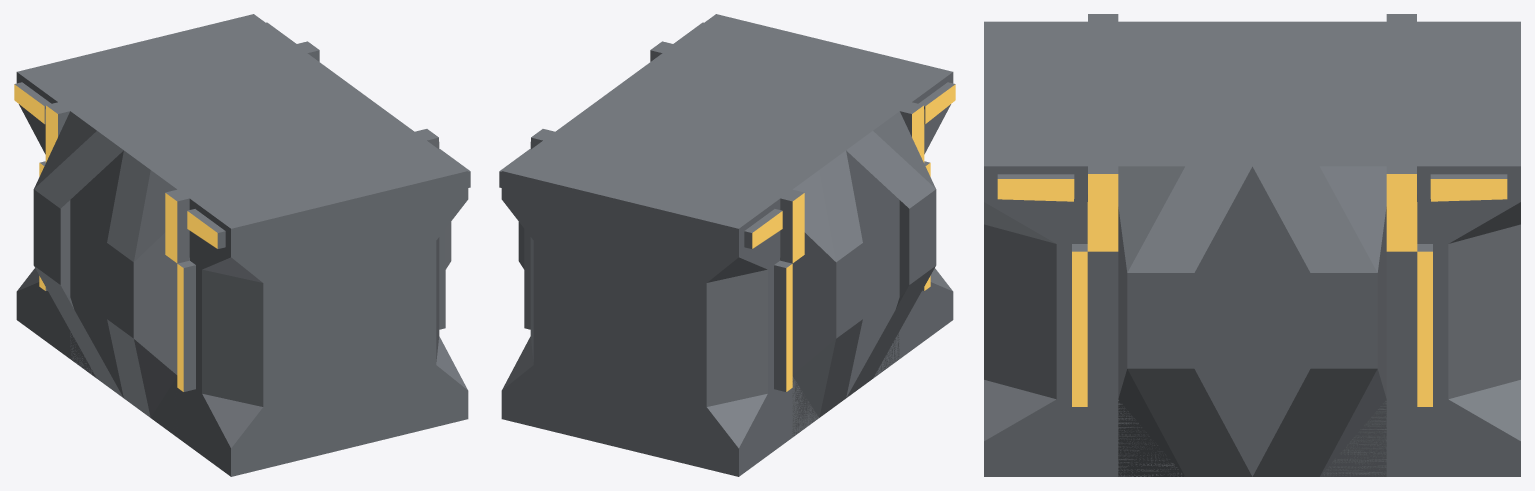
File: CAJA.fbx
The picture shows the model from 3 angles, left to right: view 1: azimuth 30°, elevation 25°; view 2: azimuth 150°, elevation 25°; view 3: azimuth 270°, elevation 25°; orthographic projection. The views are drawn at different scales.
Parts seen in each view (by area): view 1: Cube; view 2: Cube; view 3: Cube.
Boxes of the visible parts, x1,y1,x2,y2 form: Cube: [14, 14, 470, 476]; Cube: [499, 14, 955, 476]; Cube: [984, 14, 1520, 476].
Size of the model in its own units: 268 by 200 by 313.
